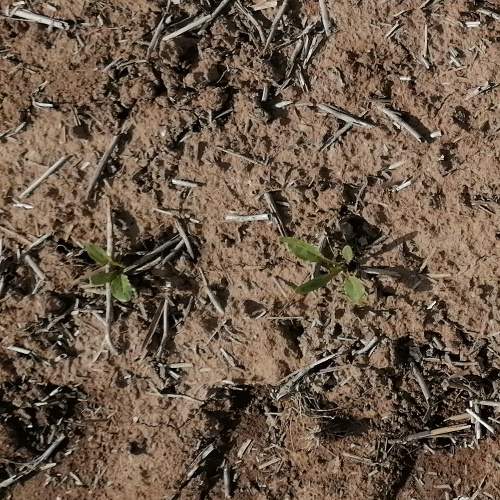beet: (279, 237, 364, 304), (82, 242, 133, 302)
